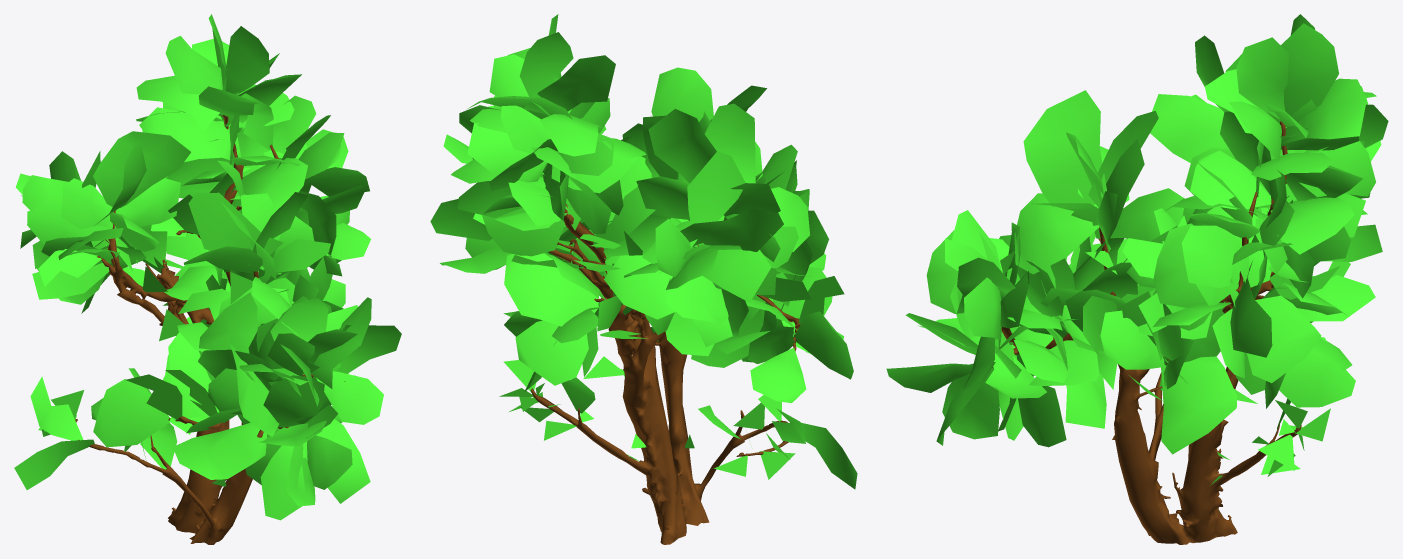
The model's file is Mesh_Tree_03.fbx.
3 renders of one model, left to right at view 1: azimuth 30°, elevation 25°; view 2: azimuth 150°, elevation 25°; view 3: azimuth 270°, elevation 25°, orthographic. The views are drawn at different scales.
Visible parts, largest first — view 1: BRANCH_LOD0, TRUNK_LOD0; view 2: BRANCH_LOD0, TRUNK_LOD0; view 3: BRANCH_LOD0, TRUNK_LOD0.
Boxes of the visible parts, left/top/right/bottom form: BRANCH_LOD0: left=14, top=14, right=401, bottom=520; TRUNK_LOD0: left=75, top=115, right=313, bottom=544; BRANCH_LOD0: left=430, top=14, right=857, bottom=489; TRUNK_LOD0: left=530, top=149, right=800, bottom=544; BRANCH_LOD0: left=886, top=14, right=1388, bottom=485; TRUNK_LOD0: left=992, top=121, right=1301, bottom=544.
Size of what is drawn, in the model's own units: 300 by 370 by 307.
